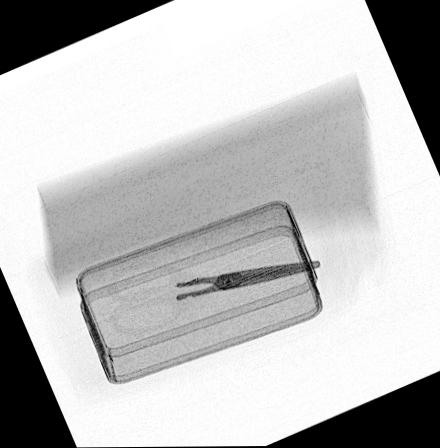Scissors: (96, 258, 322, 337)
